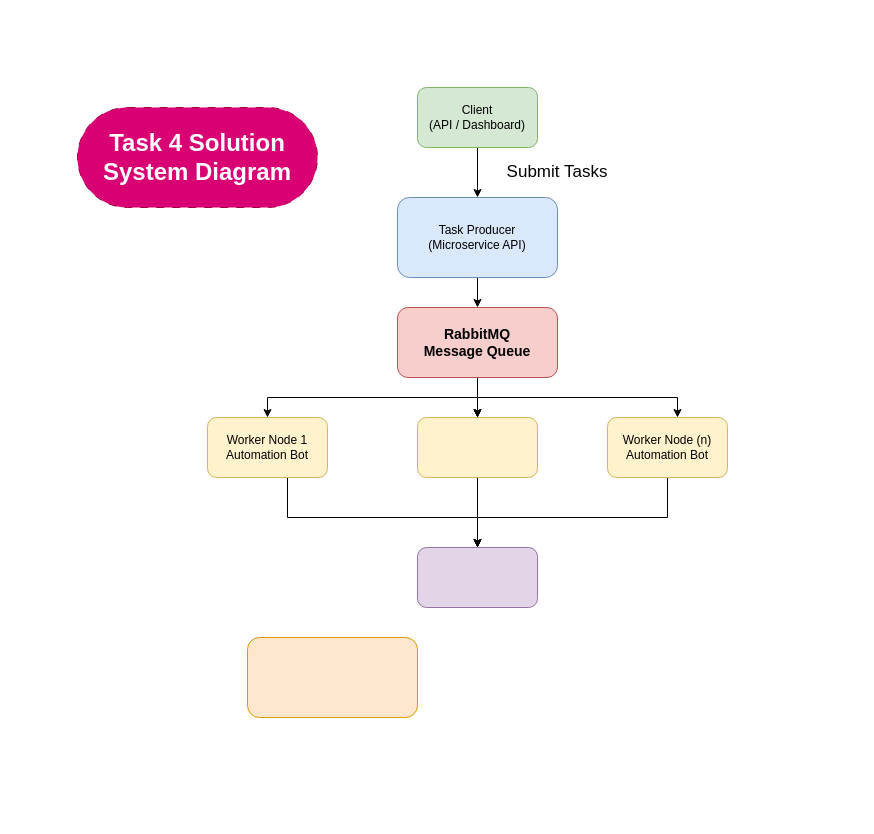
Image size: 874x834. Some labels were removed from this diagram. The shapes that lost their labels are listed below. From the top down, each one's centre as x and y in pixels, then its label:
[477,447]: Worker Node 2 Automation Bot
[477,577]: SQL Database Task Results
[332,677]: Monitoring Stack Metrics • Logs • Alerts
